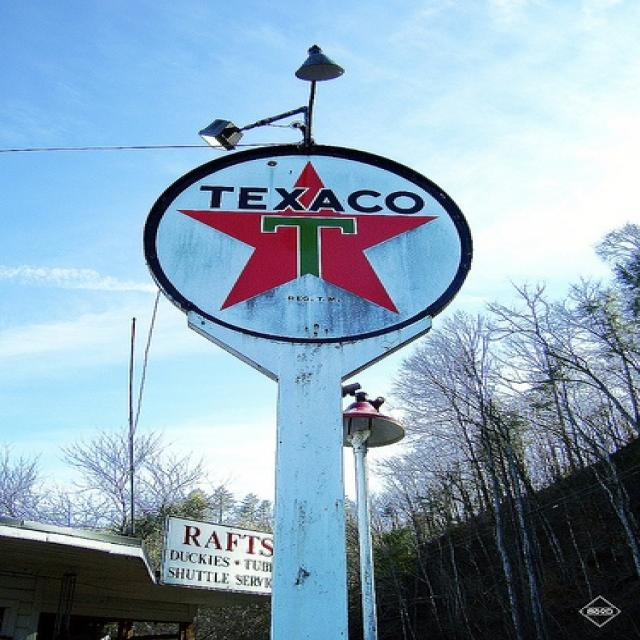texaco: (148, 154, 467, 342)
